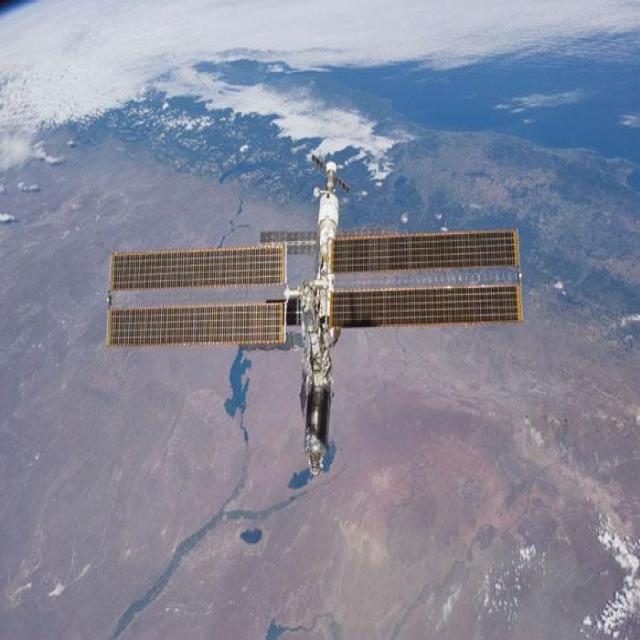medium_debris: (108, 155, 521, 474)
